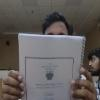notebook: (17, 32, 86, 99)
